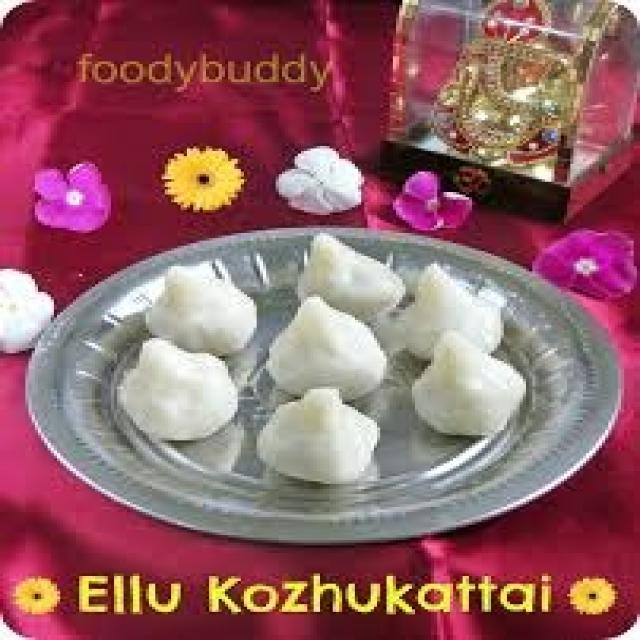poorna kolukattai: (100, 210, 556, 529)
